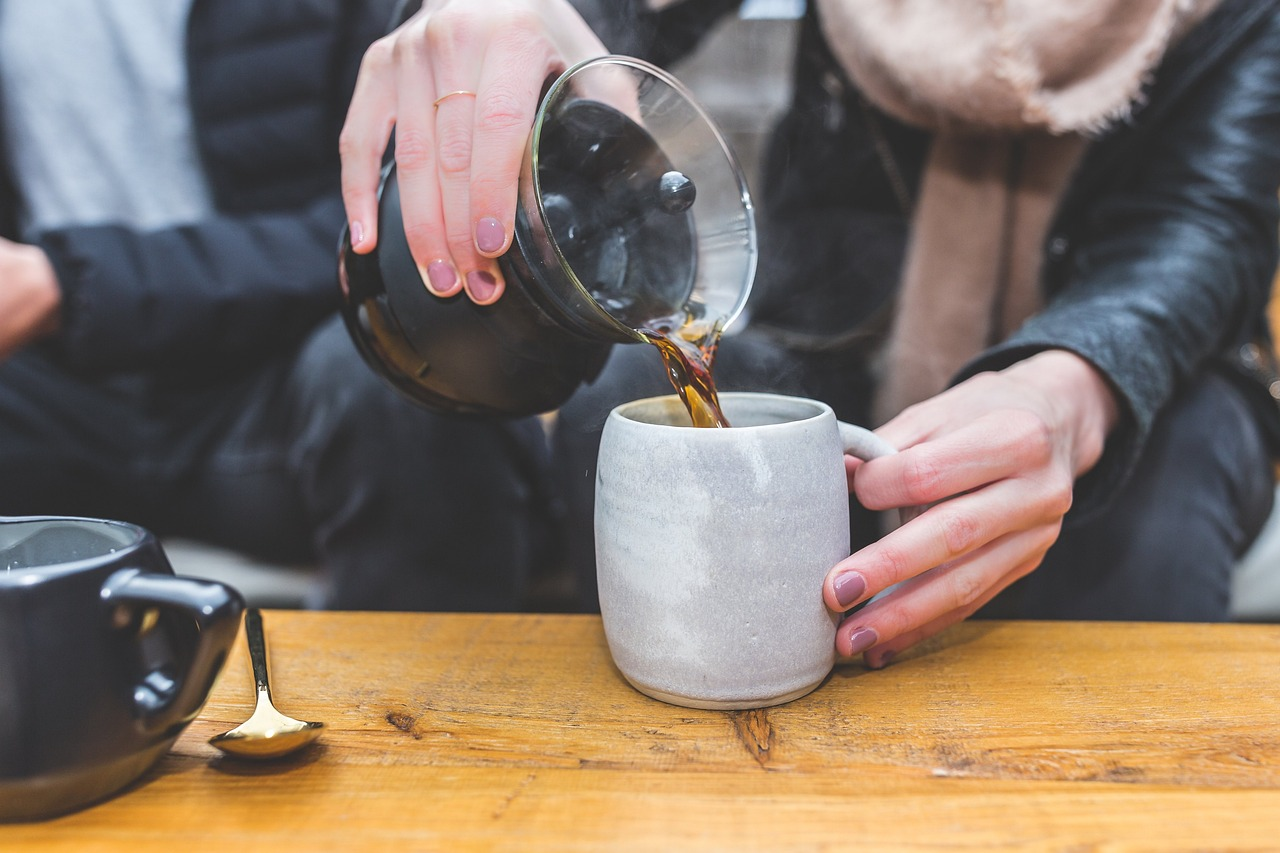mug: (526, 353, 987, 739)
